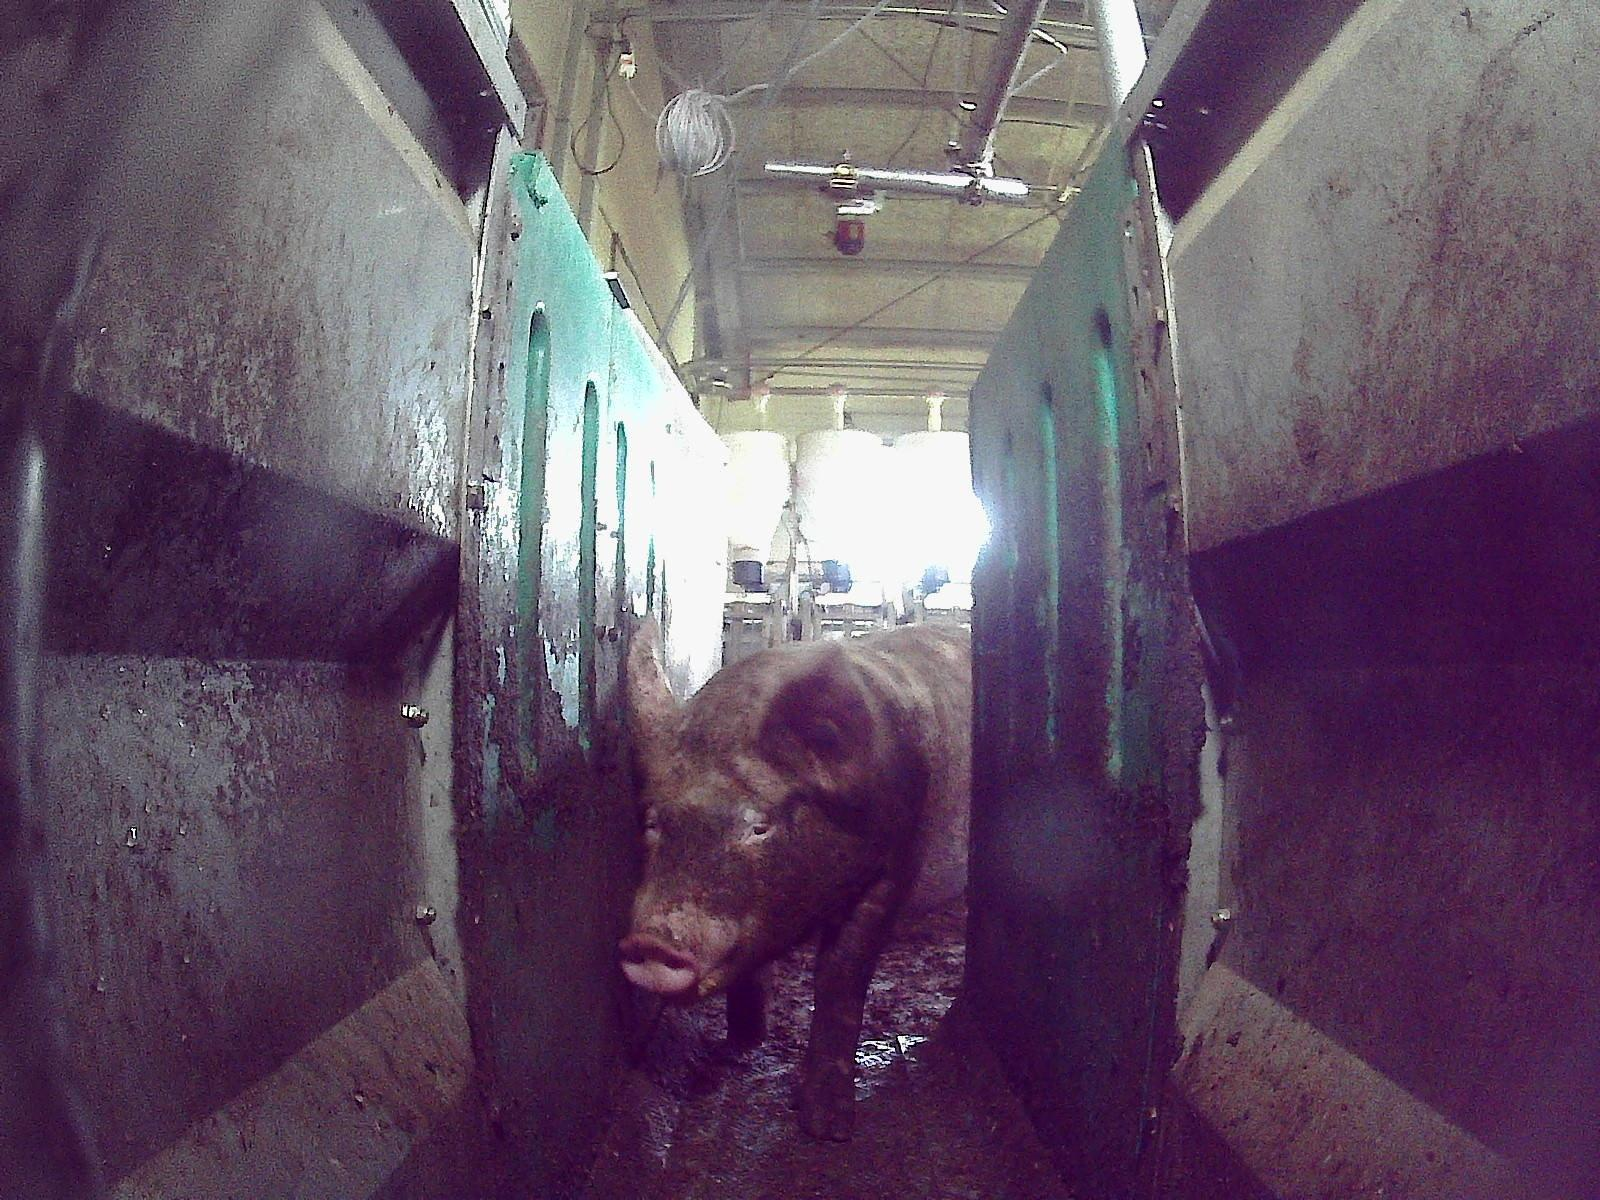Face: (615, 711, 834, 1003)
